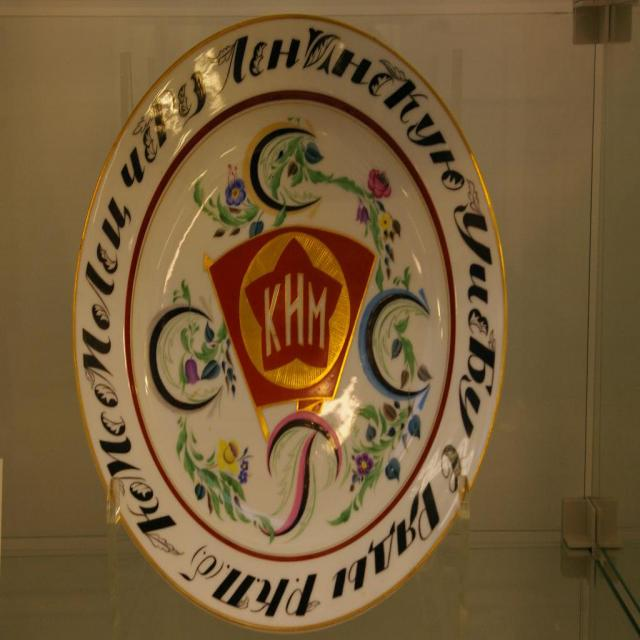non-organic waste: (69, 23, 514, 635)
